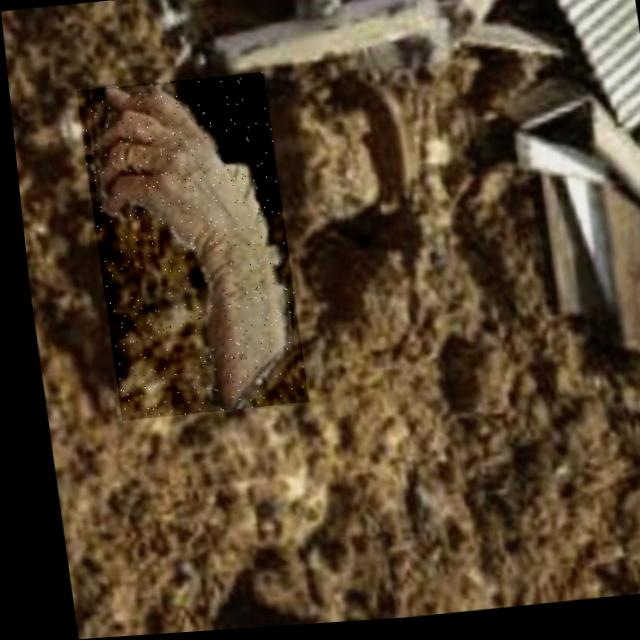Person in Rubble: (72, 75, 299, 422)
